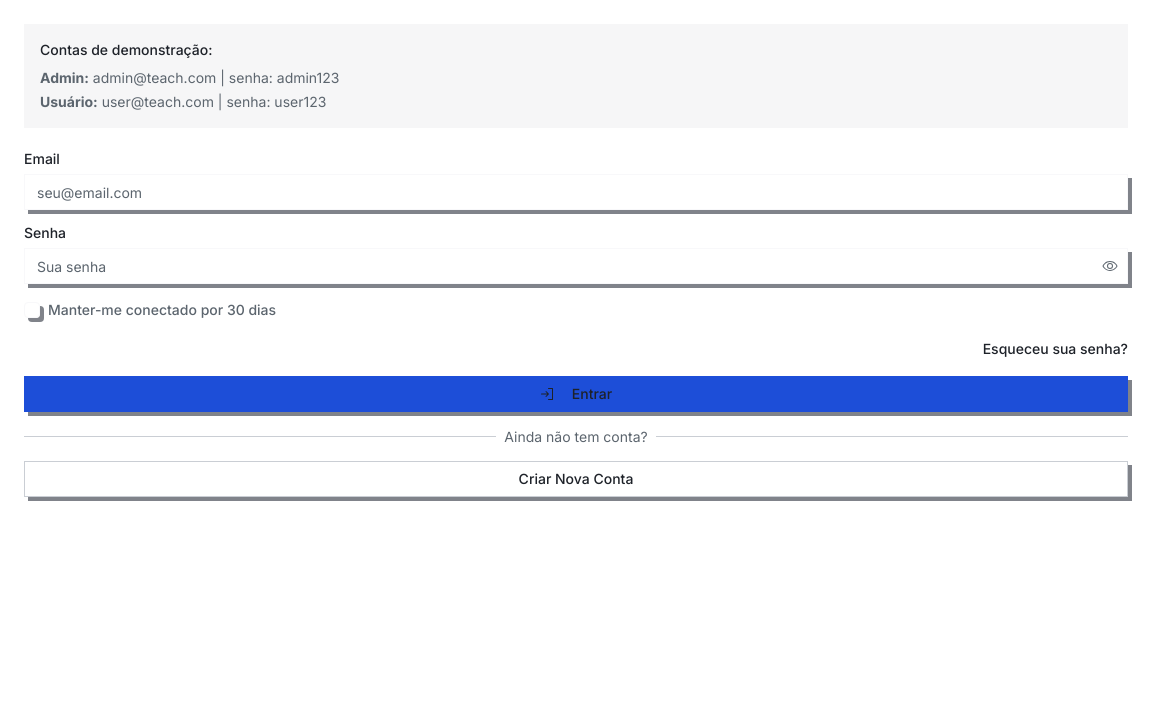
Test: LoginForm › validates password field correctly
The image size is (1152, 720).
# Valid email but no password
Type "test@example.com" into the field labelled "Email" at {"x": 576, "y": 192}, box [24, 174, 1128, 210]
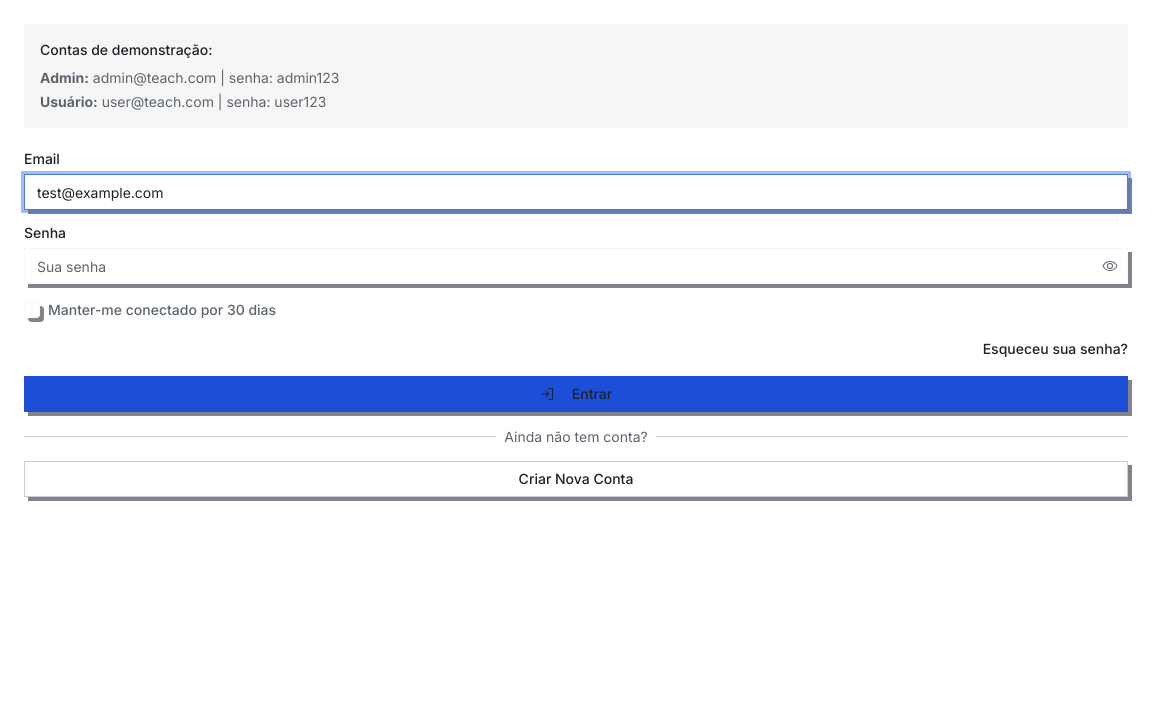
Click the button "Entrar" at {"x": 576, "y": 394}, box [24, 376, 1128, 412]
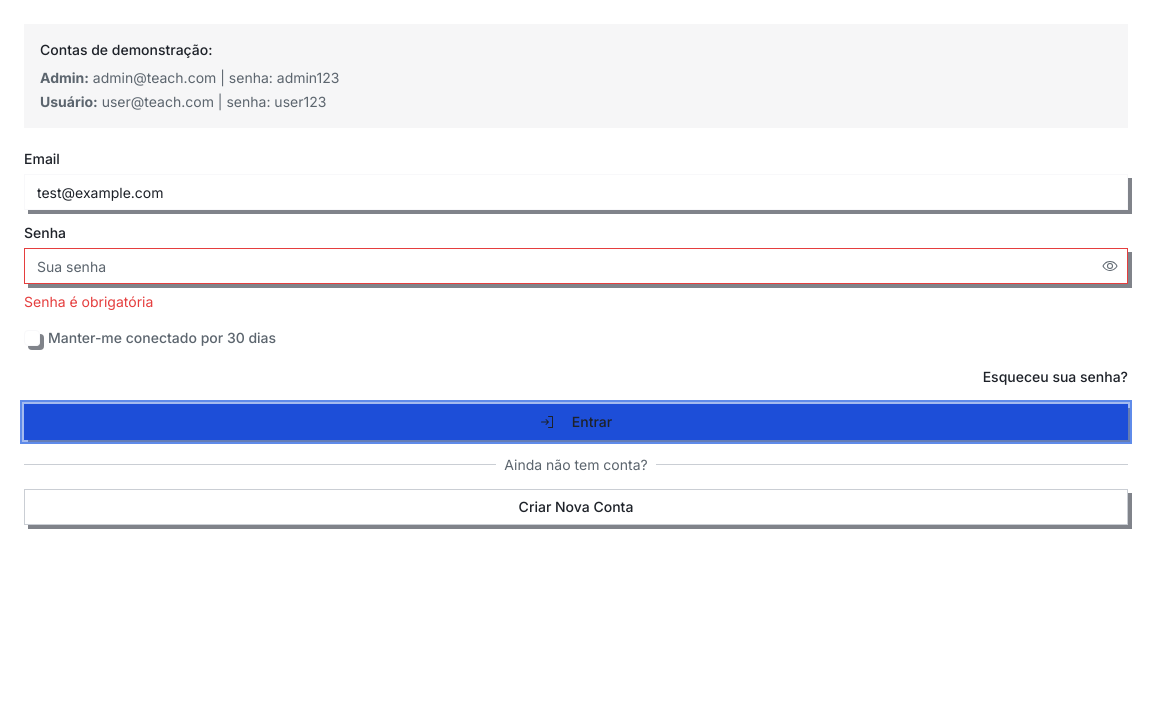
expect the text "Senha é obrigatória" is shown: met, box [24, 293, 153, 310]
# Password too short
Type "123" into the password field labelled "Senha" at {"x": 576, "y": 266}, box [24, 248, 1128, 284]
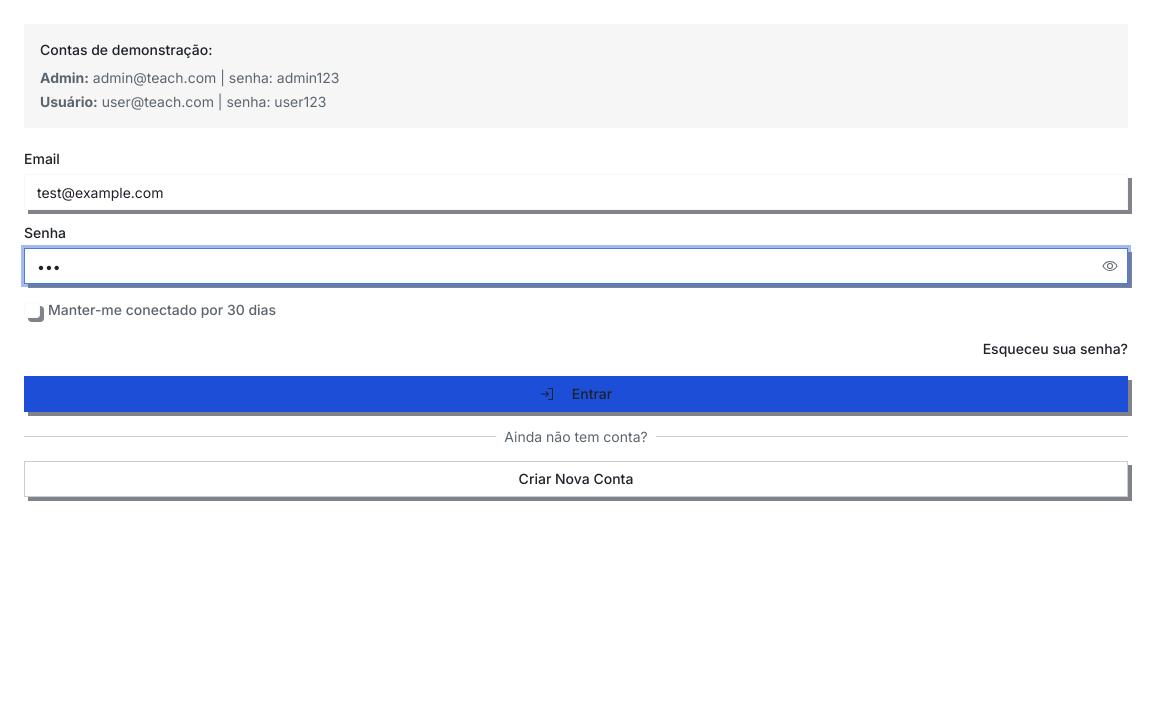
Click the button "Entrar" at {"x": 576, "y": 394}, box [24, 376, 1128, 412]
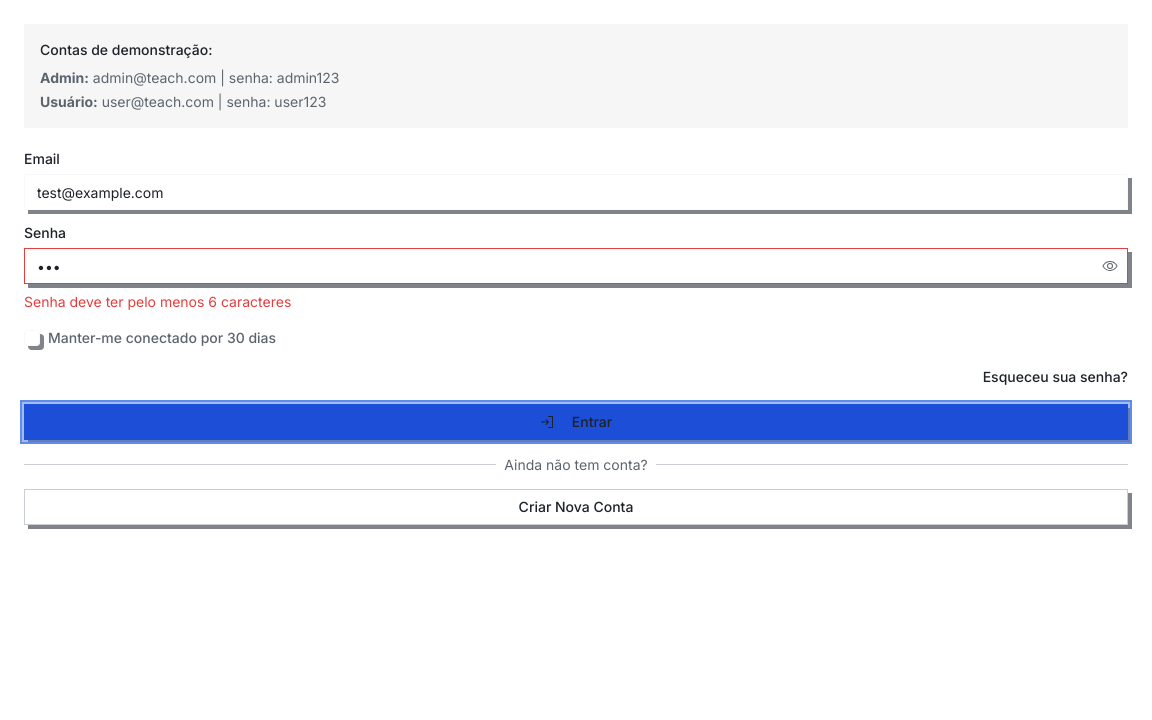
expect the text "Senha deve ter pelo menos 6 caracteres" is shown: met, box [24, 293, 291, 310]
